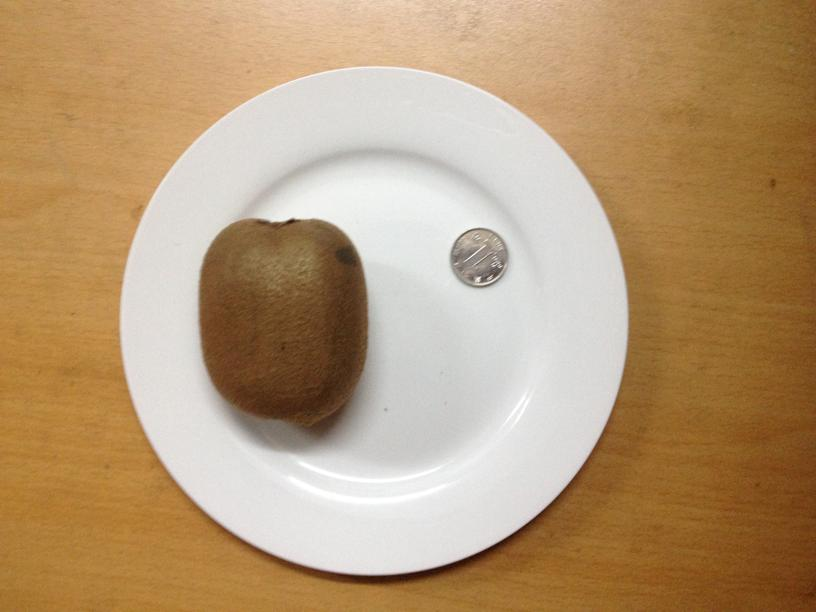coin: (452, 226, 509, 284)
qiwi: (201, 219, 368, 426)
